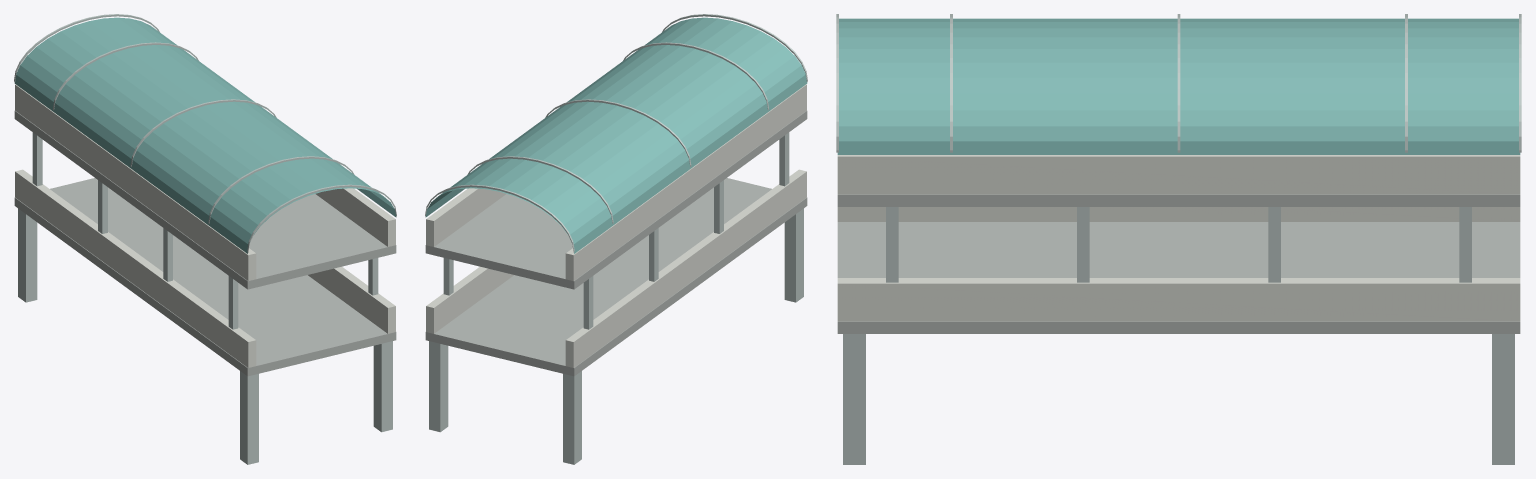
3 views of the same model, side by side, from view 1: azimuth 30°, elevation 25°; view 2: azimuth 150°, elevation 25°; view 3: azimuth 270°, elevation 25° (orthographic). The views are drawn at different scales.
Parts seen in each view (by area): view 1: bridge__canopyglass, bridge__slab, bridge__plaster, bridge__steel; view 2: bridge__canopyglass, bridge__slab, bridge__plaster, bridge__steel; view 3: bridge__canopyglass, bridge__plaster, bridge__slab, bridge__steel.
Boxes of the visible parts, x1,y1,x2,y2 form: bridge__canopyglass: (14, 17, 396, 253); bridge__slab: (14, 111, 396, 376); bridge__plaster: (15, 84, 395, 367); bridge__steel: (14, 14, 396, 464); bridge__canopyglass: (425, 17, 807, 253); bridge__slab: (425, 111, 807, 376); bridge__plaster: (426, 84, 806, 367); bridge__steel: (425, 14, 807, 464); bridge__canopyglass: (837, 18, 1520, 154); bridge__plaster: (837, 155, 1520, 321); bridge__slab: (837, 194, 1520, 333); bridge__steel: (836, 14, 1521, 464).
Size of the model in its own units: 6 by 10.02 by 16.37.
